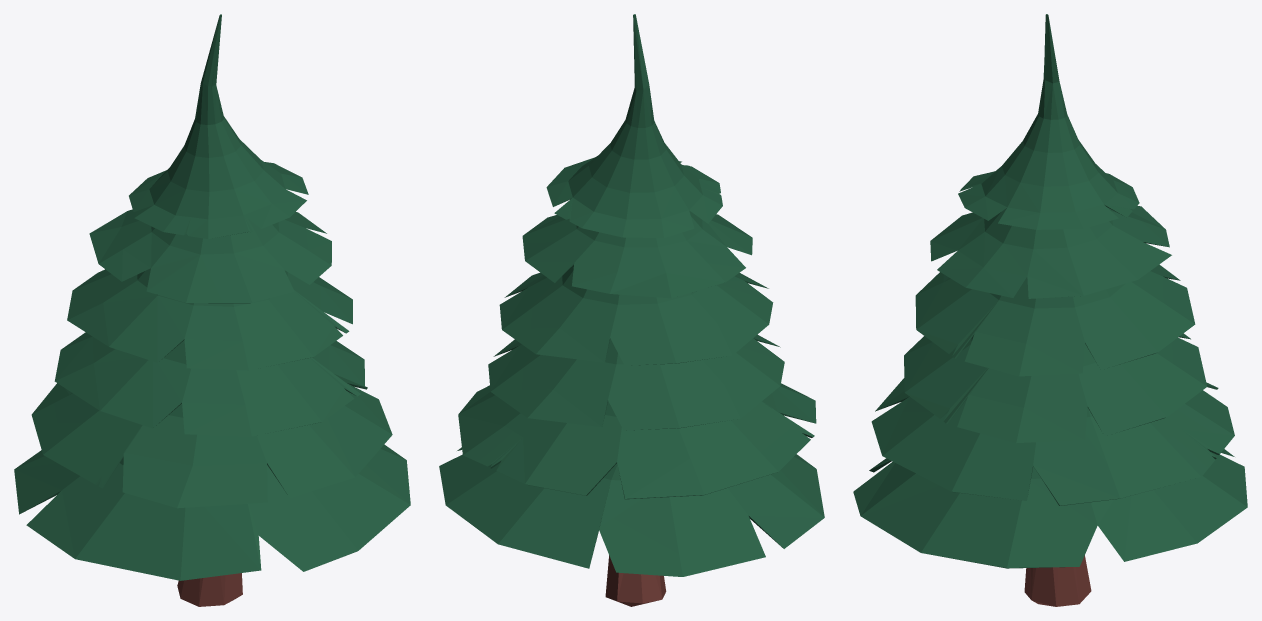
The model's file is Tree02.fbx.
3 views of the same model, side by side, from view 1: azimuth 30°, elevation 25°; view 2: azimuth 150°, elevation 25°; view 3: azimuth 270°, elevation 25° (orthographic).
Parts seen in each view (by area): view 1: Tree_02; view 2: Tree_02; view 3: Tree_02.
Part boxes in pixels (x1,y1,x2,y2): Tree_02: [14, 14, 410, 606]; Tree_02: [439, 14, 824, 606]; Tree_02: [853, 14, 1247, 606].
Size of the model in its own units: 227 by 375 by 229.
